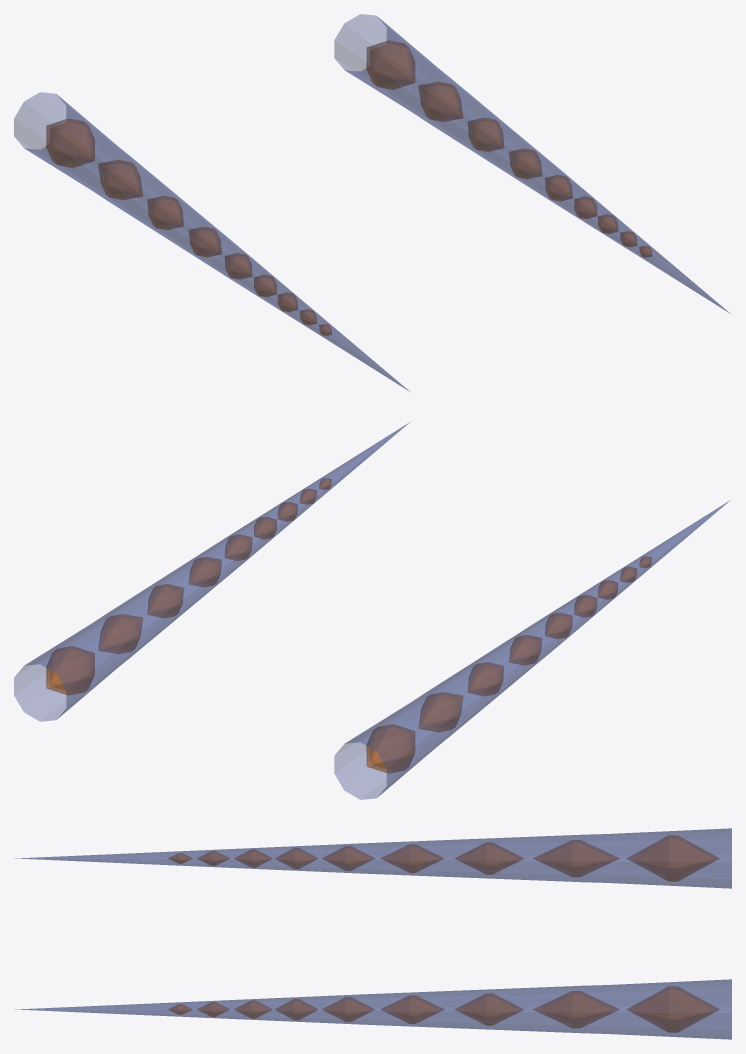
The model's file is Bunner_SR71NG.obj.
The picture shows the model from 3 angles, top to bottom: view 1: azimuth 30°, elevation 25°; view 2: azimuth 150°, elevation 25°; view 3: azimuth 270°, elevation 25°; orthographic projection. The views are drawn at different scales.
Visible parts, largest first — view 1: ShapeIndexedFaceSet.127_ShapeIndexedFaceSet.128, ShapeIndexedFaceSet.135_ShapeIndexedFaceSet.136, ShapeIndexedFaceSet.141_ShapeIndexedFaceSet.142, ShapeIndexedFaceSet.133_ShapeIndexedFaceSet.134, ShapeIndexedFaceSet.136_ShapeIndexedFaceSet.137, ShapeIndexedFaceSet.128_ShapeIndexedFaceSet.129, ShapeIndexedFaceSet.134_ShapeIndexedFaceSet.135, ShapeIndexedFaceSet.126_ShapeIndexedFaceSet.127, ShapeIndexedFaceSet.140_ShapeIndexedFaceSet.141, ShapeIndexedFaceSet.132_ShapeIndexedFaceSet.133; view 2: ShapeIndexedFaceSet.135_ShapeIndexedFaceSet.136, ShapeIndexedFaceSet.127_ShapeIndexedFaceSet.128, ShapeIndexedFaceSet.136_ShapeIndexedFaceSet.137, ShapeIndexedFaceSet.128_ShapeIndexedFaceSet.129, ShapeIndexedFaceSet.141_ShapeIndexedFaceSet.142, ShapeIndexedFaceSet.133_ShapeIndexedFaceSet.134, ShapeIndexedFaceSet.126_ShapeIndexedFaceSet.127, ShapeIndexedFaceSet.134_ShapeIndexedFaceSet.135, ShapeIndexedFaceSet.132_ShapeIndexedFaceSet.133, ShapeIndexedFaceSet.140_ShapeIndexedFaceSet.141, ShapeIndexedFaceSet.130_ShapeIndexedFaceSet.131, ShapeIndexedFaceSet.138_ShapeIndexedFaceSet.139; view 3: ShapeIndexedFaceSet.141_ShapeIndexedFaceSet.142, ShapeIndexedFaceSet.133_ShapeIndexedFaceSet.134, ShapeIndexedFaceSet.127_ShapeIndexedFaceSet.128, ShapeIndexedFaceSet.135_ShapeIndexedFaceSet.136, ShapeIndexedFaceSet.128_ShapeIndexedFaceSet.129, ShapeIndexedFaceSet.136_ShapeIndexedFaceSet.137, ShapeIndexedFaceSet.134_ShapeIndexedFaceSet.135, ShapeIndexedFaceSet.126_ShapeIndexedFaceSet.127, ShapeIndexedFaceSet.132_ShapeIndexedFaceSet.133, ShapeIndexedFaceSet.140_ShapeIndexedFaceSet.141, ShapeIndexedFaceSet.137_ShapeIndexedFaceSet.138, ShapeIndexedFaceSet.129_ShapeIndexedFaceSet.130 (+4 smaller).
Boxes of the visible parts, <box> form: ShapeIndexedFaceSet.127_ShapeIndexedFaceSet.128: <box>46,118,331,335</box>; ShapeIndexedFaceSet.135_ShapeIndexedFaceSet.136: <box>366,40,651,257</box>; ShapeIndexedFaceSet.141_ShapeIndexedFaceSet.142: <box>418,77,565,197</box>; ShapeIndexedFaceSet.133_ShapeIndexedFaceSet.134: <box>98,156,245,275</box>; ShapeIndexedFaceSet.136_ShapeIndexedFaceSet.137: <box>334,14,444,112</box>; ShapeIndexedFaceSet.128_ShapeIndexedFaceSet.129: <box>14,92,124,190</box>; ShapeIndexedFaceSet.134_ShapeIndexedFaceSet.135: <box>370,44,650,255</box>; ShapeIndexedFaceSet.126_ShapeIndexedFaceSet.127: <box>50,122,329,333</box>; ShapeIndexedFaceSet.140_ShapeIndexedFaceSet.141: <box>541,170,730,313</box>; ShapeIndexedFaceSet.132_ShapeIndexedFaceSet.133: <box>221,249,409,391</box>; ShapeIndexedFaceSet.135_ShapeIndexedFaceSet.136: <box>46,478,331,695</box>; ShapeIndexedFaceSet.127_ShapeIndexedFaceSet.128: <box>366,556,651,773</box>; ShapeIndexedFaceSet.136_ShapeIndexedFaceSet.137: <box>14,623,124,721</box>; ShapeIndexedFaceSet.128_ShapeIndexedFaceSet.129: <box>334,701,444,799</box>; ShapeIndexedFaceSet.141_ShapeIndexedFaceSet.142: <box>98,537,246,657</box>; ShapeIndexedFaceSet.133_ShapeIndexedFaceSet.134: <box>418,615,566,735</box>; ShapeIndexedFaceSet.126_ShapeIndexedFaceSet.127: <box>370,558,650,769</box>; ShapeIndexedFaceSet.134_ShapeIndexedFaceSet.135: <box>50,480,329,691</box>; ShapeIndexedFaceSet.132_ShapeIndexedFaceSet.133: <box>541,500,730,643</box>; ShapeIndexedFaceSet.140_ShapeIndexedFaceSet.141: <box>221,422,409,564</box>; ShapeIndexedFaceSet.130_ShapeIndexedFaceSet.131: <box>408,694,454,743</box>; ShapeIndexedFaceSet.138_ShapeIndexedFaceSet.139: <box>88,616,134,665</box>; ShapeIndexedFaceSet.141_ShapeIndexedFaceSet.142: <box>357,986,580,1033</box>; ShapeIndexedFaceSet.133_ShapeIndexedFaceSet.134: <box>357,834,580,881</box>; ShapeIndexedFaceSet.127_ShapeIndexedFaceSet.128: <box>168,835,719,881</box>; ShapeIndexedFaceSet.135_ShapeIndexedFaceSet.136: <box>168,986,719,1032</box>; ShapeIndexedFaceSet.128_ShapeIndexedFaceSet.129: <box>609,828,731,888</box>; ShapeIndexedFaceSet.136_ShapeIndexedFaceSet.137: <box>609,979,731,1039</box>; ShapeIndexedFaceSet.134_ShapeIndexedFaceSet.135: <box>171,990,712,1028</box>; ShapeIndexedFaceSet.126_ShapeIndexedFaceSet.127: <box>172,839,712,877</box>; ShapeIndexedFaceSet.132_ShapeIndexedFaceSet.133: <box>15,843,357,873</box>; ShapeIndexedFaceSet.140_ShapeIndexedFaceSet.141: <box>15,994,357,1024</box>; ShapeIndexedFaceSet.137_ShapeIndexedFaceSet.138: <box>599,985,608,1033</box>; ShapeIndexedFaceSet.129_ShapeIndexedFaceSet.130: <box>599,834,608,882</box>.
Size of the model in its own units: 92.84 by 13.72 by 160.
